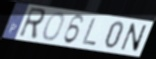0: (103, 21, 125, 50)
6: (62, 14, 85, 45)
L: (80, 17, 98, 47)
N: (119, 22, 148, 54)
O: (42, 11, 65, 42)
R: (16, 7, 47, 42)
